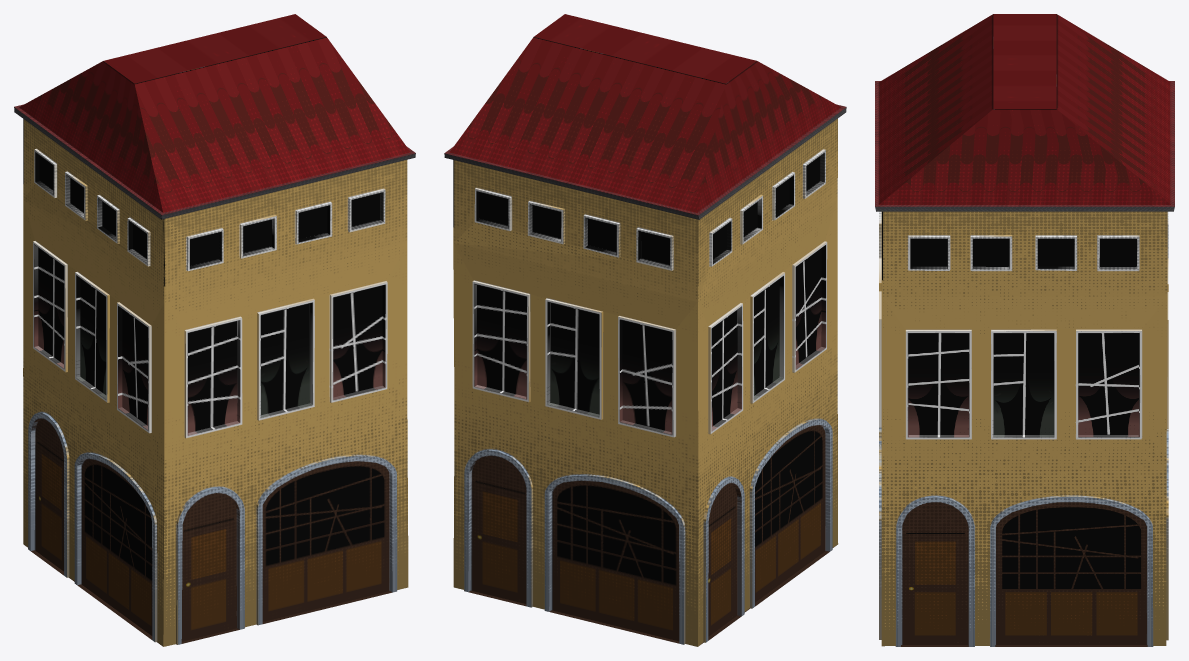
Rendered from Building01.fbx.
3 renders of one model, left to right at view 1: azimuth 30°, elevation 25°; view 2: azimuth 150°, elevation 25°; view 3: azimuth 270°, elevation 25°, orthographic.
Visible parts, largest first — view 1: Building1C, Building1A, Building1B; view 2: Building1C, Building1A, Building1B; view 3: Building1C, Building1A, Building1B.
Part boxes in pixels (bbox=[...]): Building1C: bbox=[14, 14, 415, 302]; Building1A: bbox=[23, 372, 408, 646]; Building1B: bbox=[23, 200, 407, 474]; Building1C: bbox=[444, 14, 846, 301]; Building1A: bbox=[453, 372, 838, 646]; Building1B: bbox=[453, 199, 837, 474]; Building1C: bbox=[875, 14, 1174, 296]; Building1A: bbox=[879, 427, 1168, 646]; Building1B: bbox=[879, 258, 1168, 471].
Size of the model in its own units: 1067 by 2072 by 1075.
